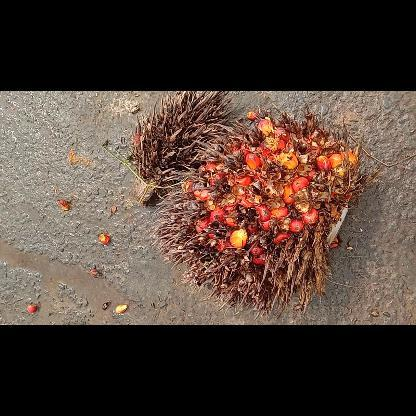Janjang kosong: (128, 91, 232, 204)
Terlalu masak: (153, 102, 373, 320)
